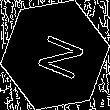N_W: (26, 27, 84, 83)
